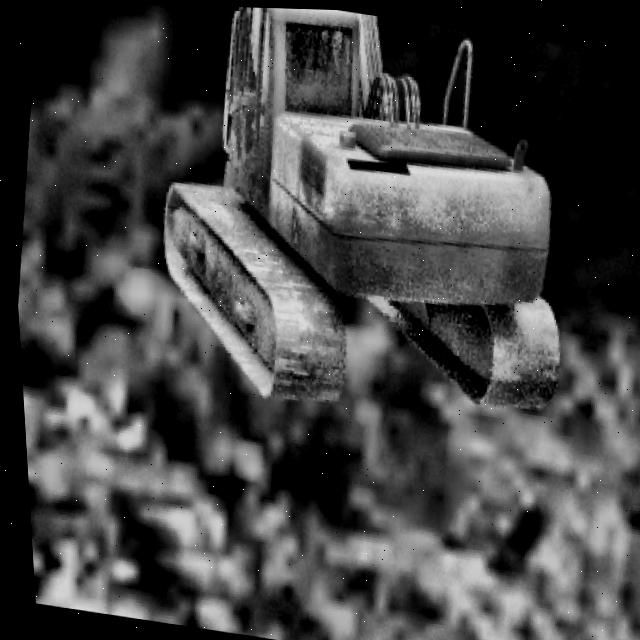excavator: (130, 3, 595, 436)
